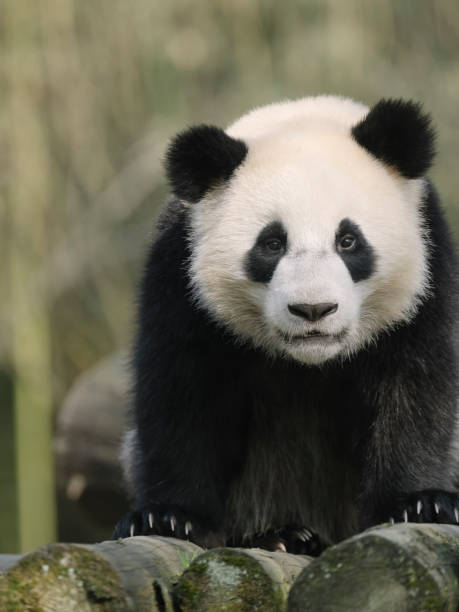panda: (131, 69, 454, 424)
